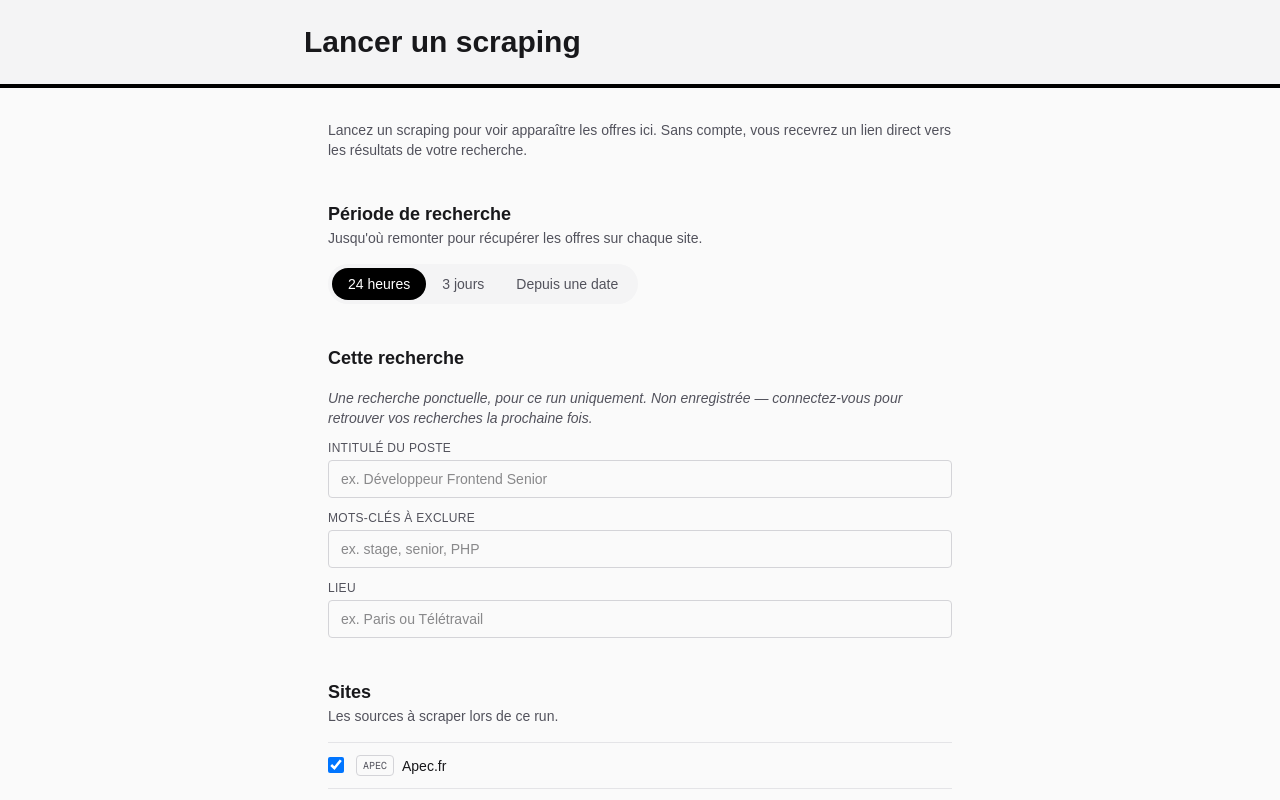
it: HomeClient — anonymous trigger › shows the API's error message on a failed submit and does not redirect
Type "Dev" into the field labelled "INTITULÉ DU POSTE".
click(640, 479); type("Dev")  # box [328,460,952,498]
(page scrolled)
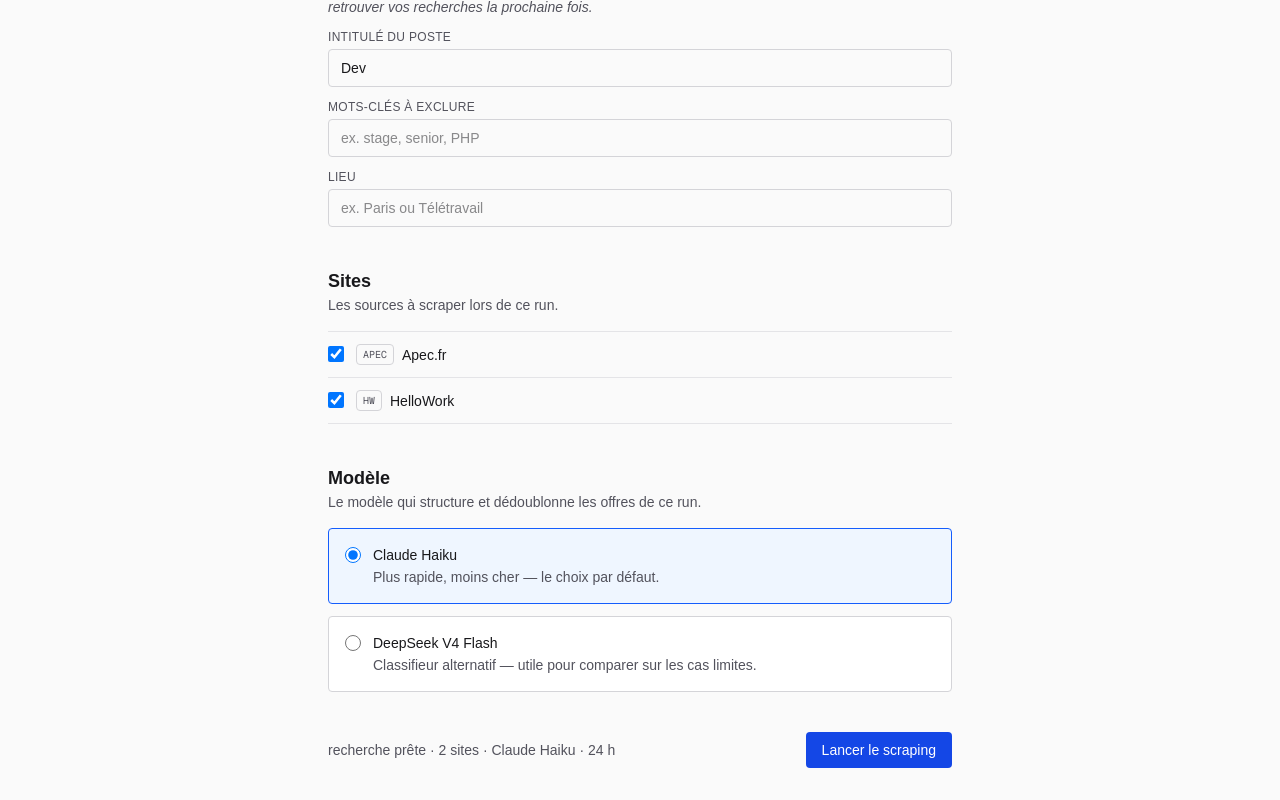
Click the button "Lancer le scraping".
click(879, 750)  # box [806,732,952,768]
(page scrolled)
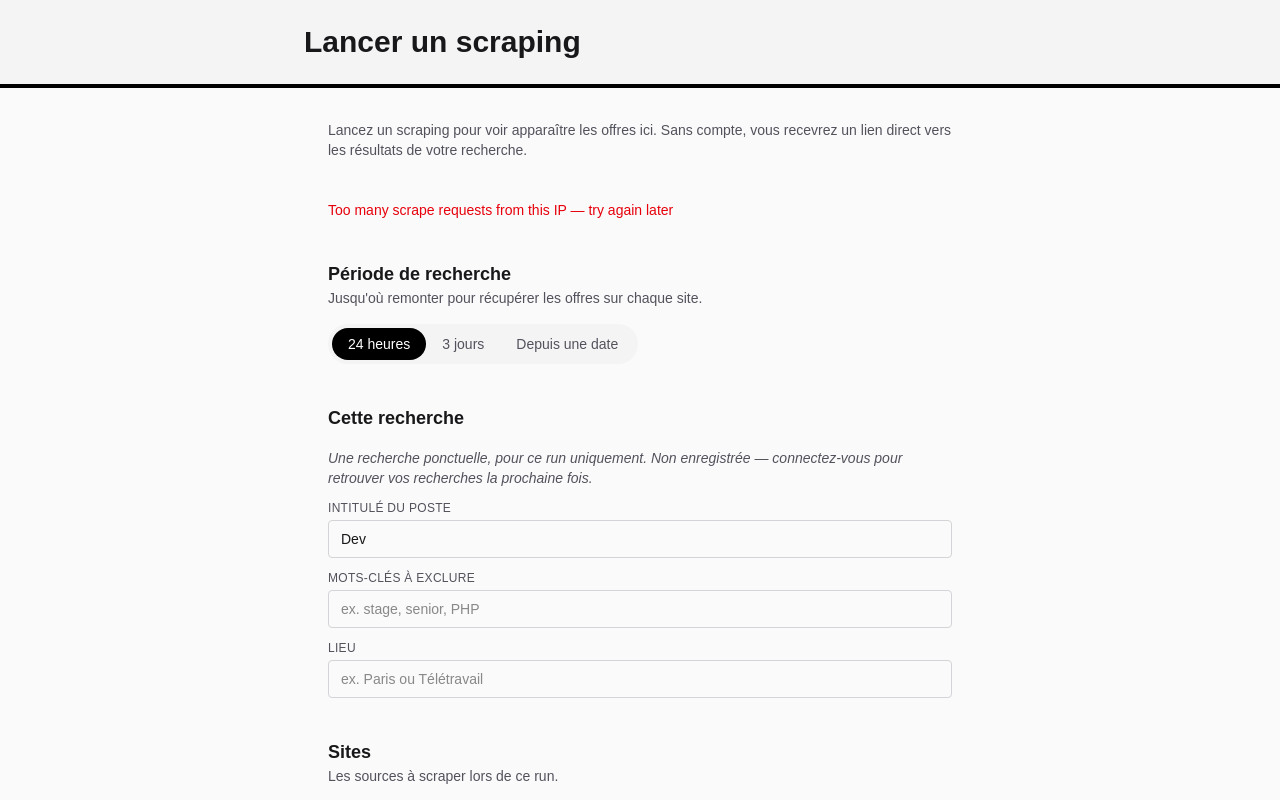
Check: the message reads "Too many scrape requests from this IP — try again later", box [328,202,673,218]
